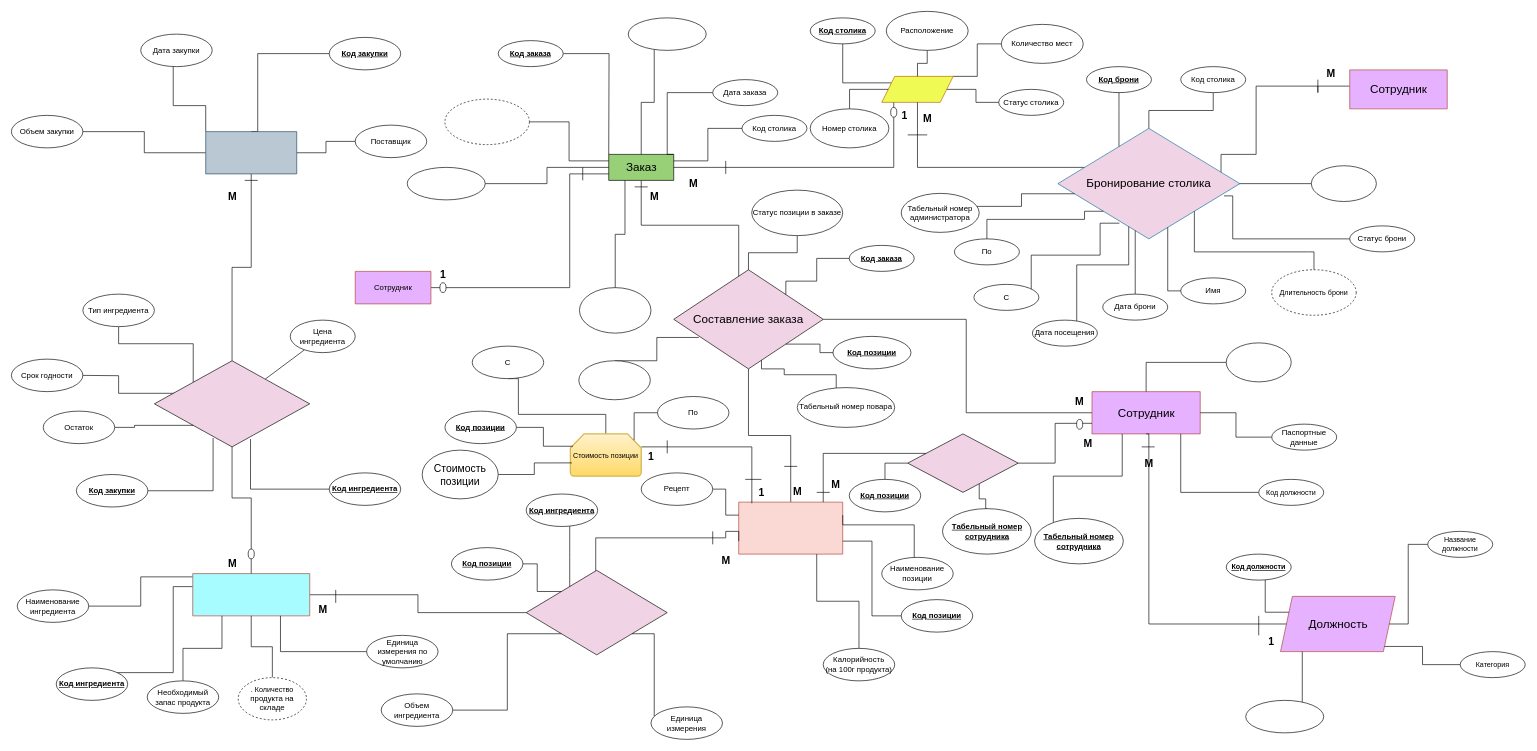
The diagram is 1537 pixels wide and 751 high, and some of its shapes have lost their labels. Each missing label, with the centre of its shape:
"Закупка" goes at (x=251, y=152).
"Ингредиент" goes at (x=251, y=594).
"Итоговая сумма заказа" goes at (x=486, y=121).
"Количество (каждого из блюд)" goes at (x=614, y=380).
"Наличие брони" goes at (x=615, y=310).
"Оклад сотрудника" goes at (x=1284, y=716).
"Позиция" goes at (x=790, y=527).
"Скиллы повара" goes at (x=962, y=462).
"Состав блюда" goes at (x=596, y=612).
"Состав закупки" goes at (x=232, y=403).
"Статус оплаты" goes at (x=446, y=183).
"Столик" goes at (x=917, y=89).
"Табельный номер официанта" goes at (x=667, y=33).
"Телефон клиента" goes at (x=1343, y=183).
"ФИО" goes at (x=1258, y=362).
